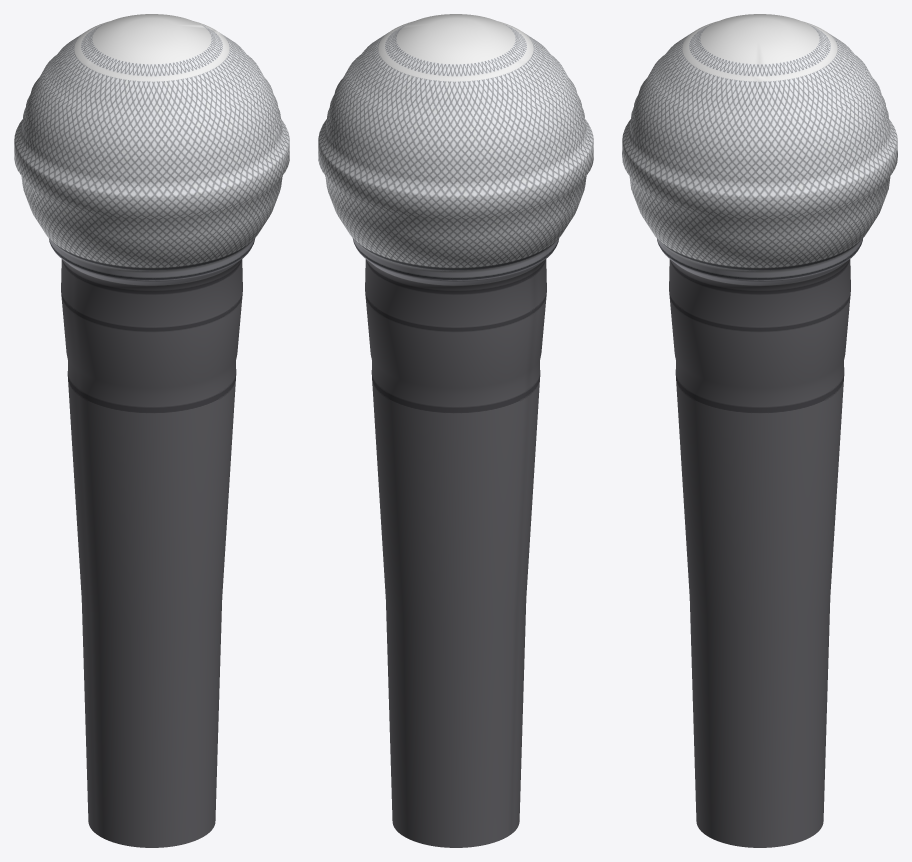
Rendered from shure-sm58.glb.
The picture shows the model from 3 angles, left to right: view 1: azimuth 30°, elevation 25°; view 2: azimuth 150°, elevation 25°; view 3: azimuth 270°, elevation 25°; orthographic projection.
Parts seen in each view (by area): view 1: shure-sm58-body; view 2: shure-sm58-body; view 3: shure-sm58-body.
Part boxes in pixels (box(x1,y1,x2,y2)): shure-sm58-body: box(14, 14, 289, 847); shure-sm58-body: box(318, 14, 593, 847); shure-sm58-body: box(622, 14, 897, 847).
Size of the model in its own units: 0.051 by 0.162 by 0.051.
Materials: 1 (1 with a texture image).
